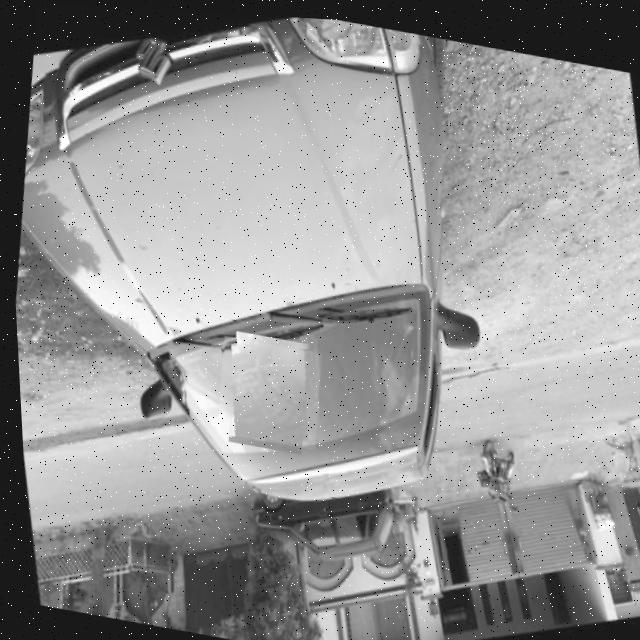no-seatbelt: (208, 333, 322, 447)
